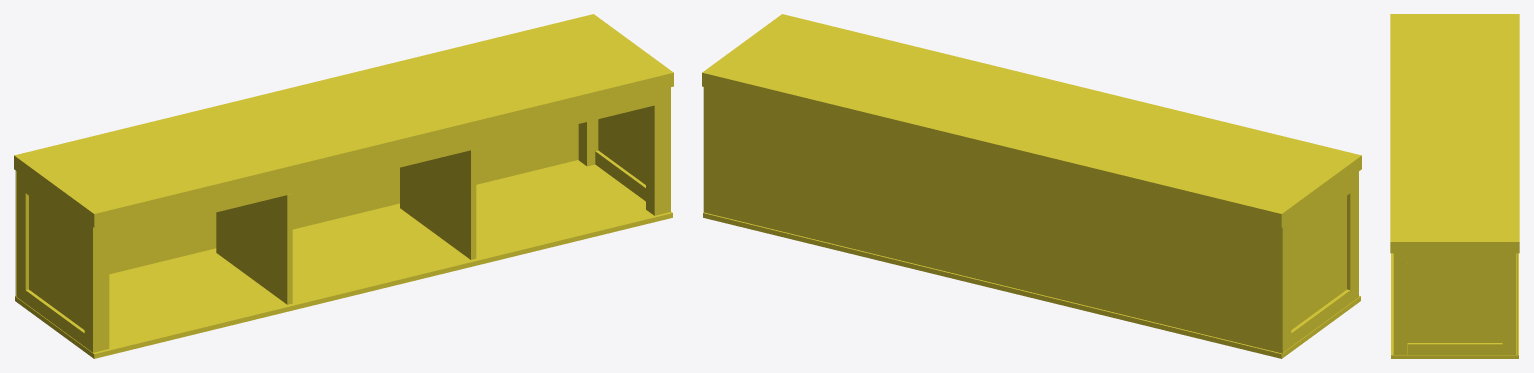
Rendered from SHELF.glb.
The picture shows the model from 3 angles, left to right: view 1: azimuth 30°, elevation 25°; view 2: azimuth 150°, elevation 25°; view 3: azimuth 270°, elevation 25°; orthographic projection. The views are drawn at different scales.
Parts seen in each view (by area): view 1: Shelf; view 2: Shelf; view 3: Shelf.
Boxes of the visible parts, x1,y1,x2,y2 form: Shelf: (14, 14, 673, 358); Shelf: (702, 14, 1361, 358); Shelf: (1390, 14, 1519, 358).
Bounding box in the file's own units: 1.48 × 0.3545 × 0.3545.
